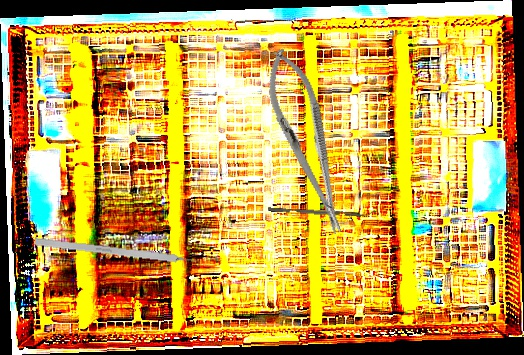Chopper: (267, 202, 376, 219)
Hook Surgical: (34, 237, 210, 267)
Needle Holder: (255, 43, 359, 241)
